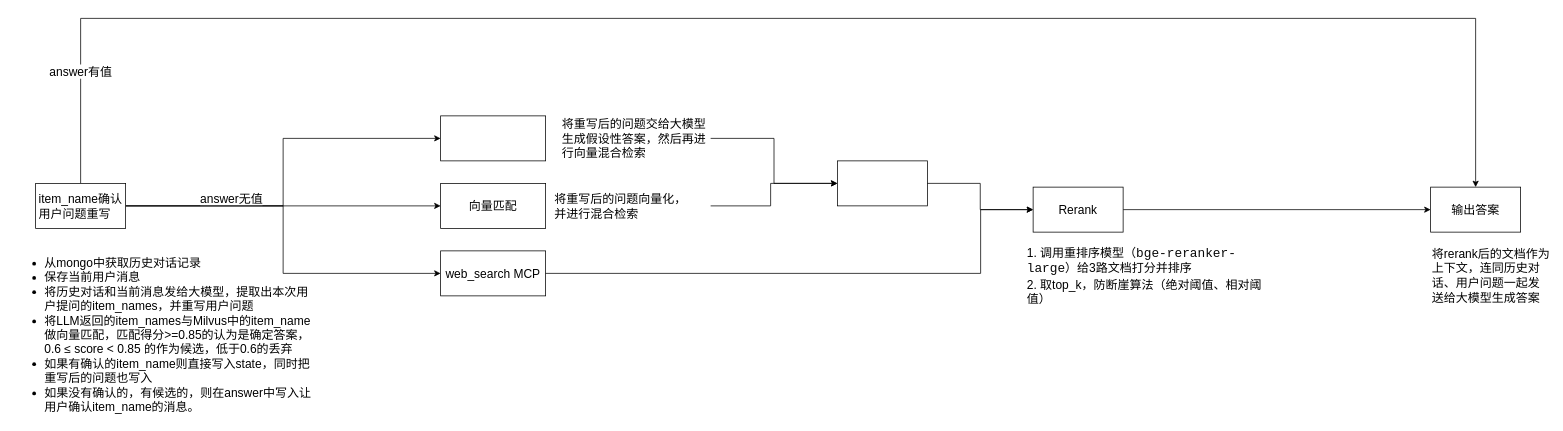
This 1563x431 diagram has some shape labels left out. The shapes that lost their labels are listed below. From the top down, each one's centre as x and y in pixels, then its label:
the point at 493,138: 假设性答案匹配
the point at 882,183: RRF
